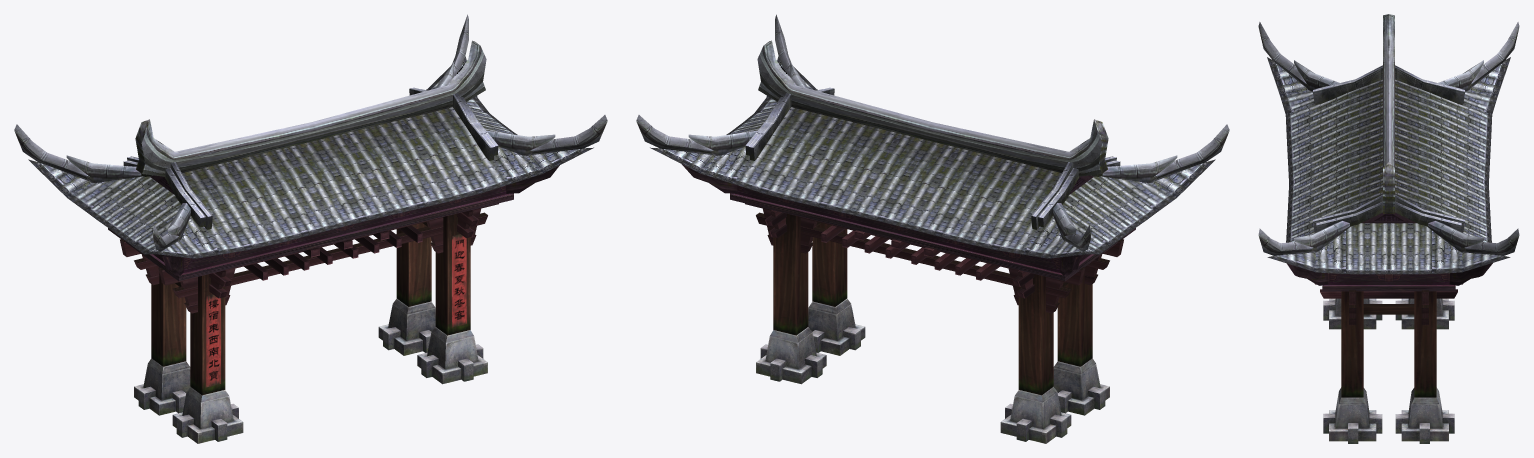
The model's file is xcz_jz_05_LOD1.FBX.
The picture shows the model from 3 angles, left to right: view 1: azimuth 30°, elevation 25°; view 2: azimuth 150°, elevation 25°; view 3: azimuth 270°, elevation 25°; orthographic projection. The views are drawn at different scales.
Parts seen in each view (by area): view 1: xcz_jz_05_LOD1; view 2: xcz_jz_05_LOD1; view 3: xcz_jz_05_LOD1.
Part boxes in pixels (x1,y1,x2,y2): xcz_jz_05_LOD1: [14, 14, 607, 443]; xcz_jz_05_LOD1: [636, 14, 1229, 443]; xcz_jz_05_LOD1: [1258, 14, 1519, 443].
Size of the model in its own units: 2332 by 1496 by 1233.
